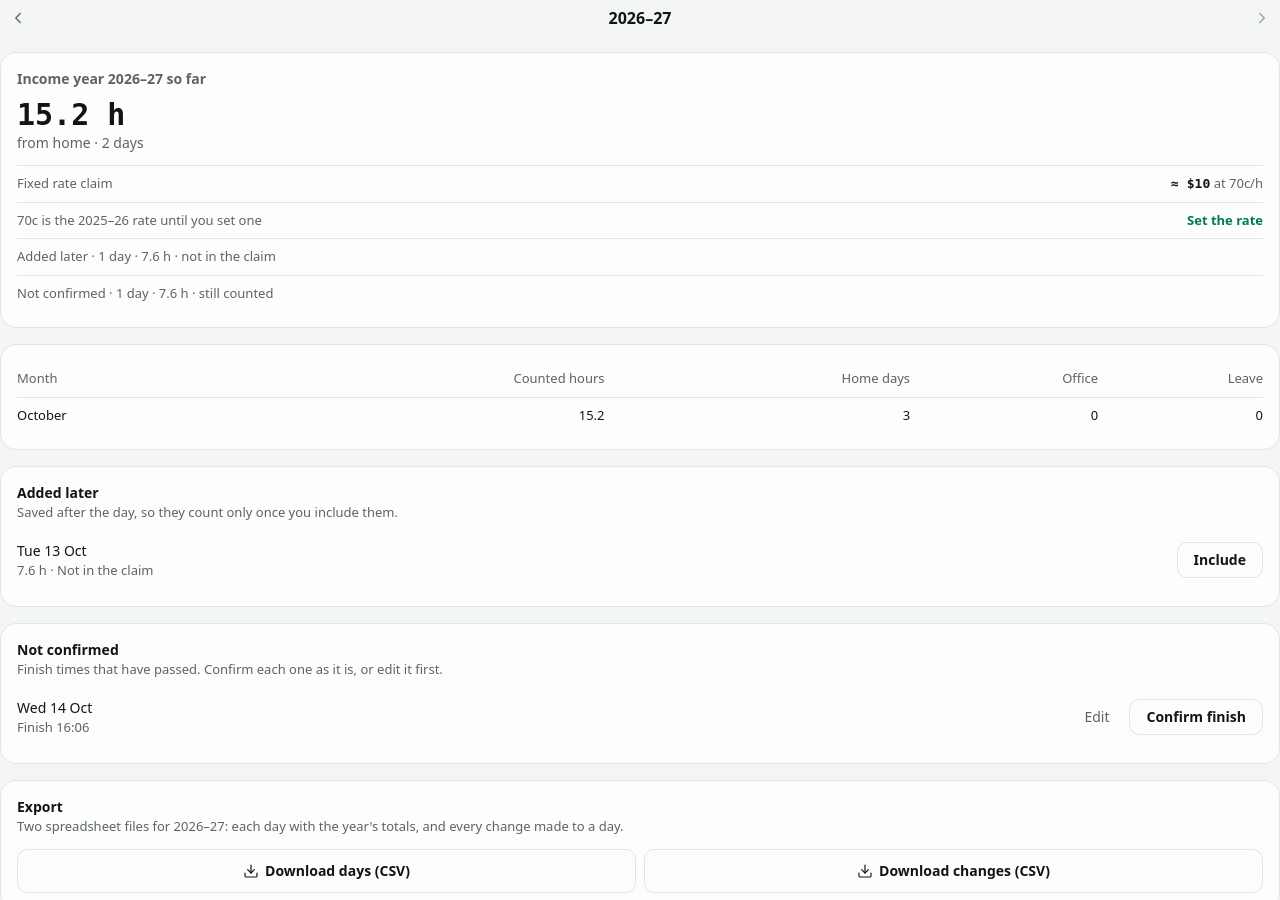
Test: YearTab › steps back a year and does not step past the current one
Expected: the button named "Next income year" is disabled, left=1244, top=0, right=1279, bottom=36
Click the button named "Previous income year": (18, 18) left=0, top=0, right=36, bottom=36
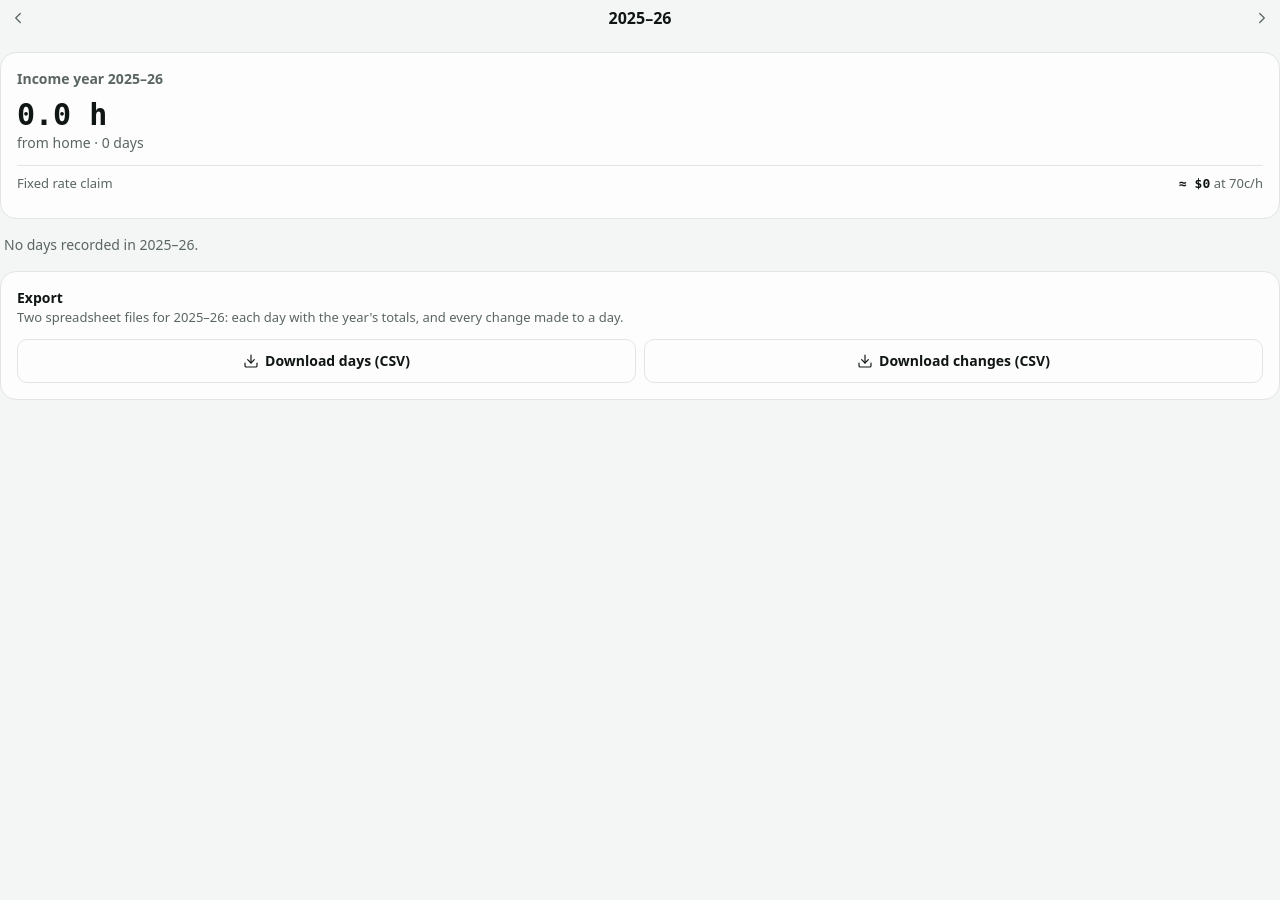
Expected: the heading "2025–26" is shown, left=608, top=6, right=671, bottom=30
Click the button named "Next income year": (1262, 18) left=1244, top=0, right=1279, bottom=36
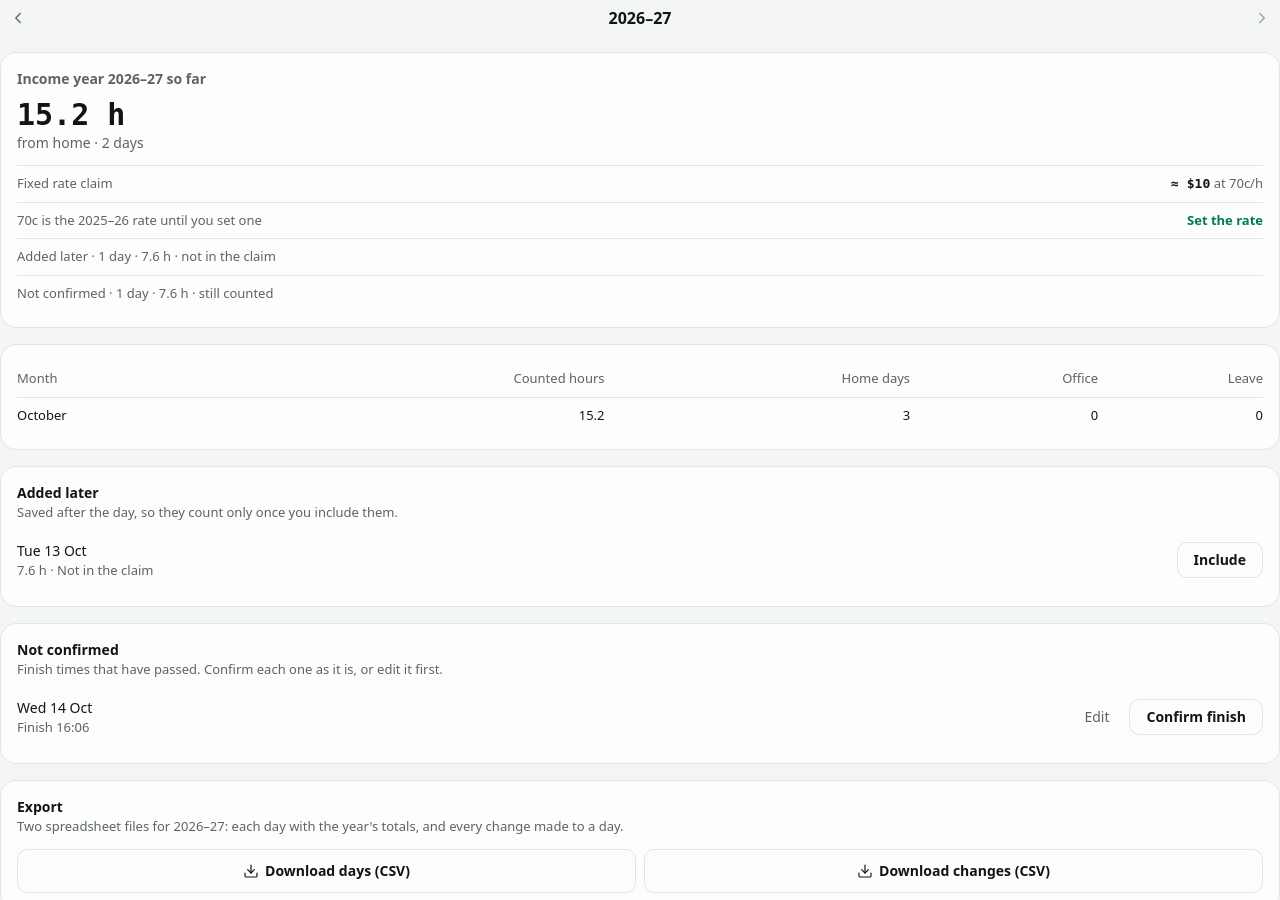
Expected: the heading "2026–27" is shown, left=608, top=6, right=671, bottom=30
